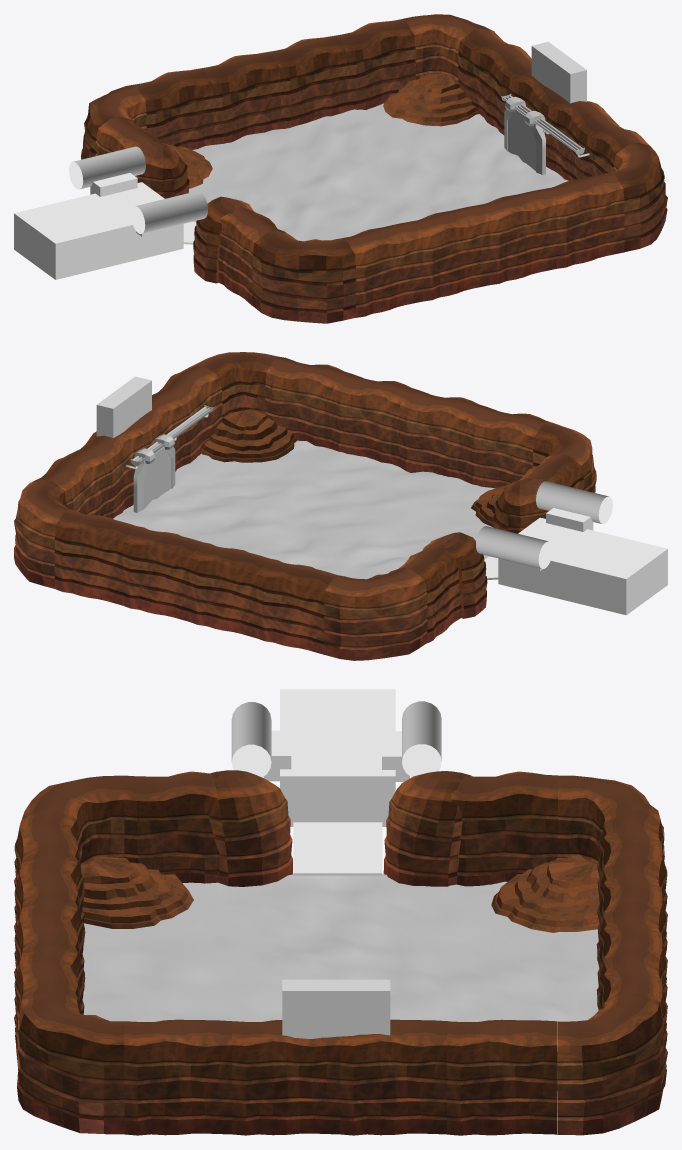
File: level1_InitialV2_20_final.FBX
The picture shows the model from 3 angles, top to bottom: view 1: azimuth 30°, elevation 25°; view 2: azimuth 150°, elevation 25°; view 3: azimuth 270°, elevation 25°; orthographic projection. The views are drawn at different scales.
Visible parts, largest first — view 1: level1_corner002, Plane074, Box093, Pyramid003, Box151, level1_door, level1_doorrail; view 2: level1_corner002, Plane074, Box093, Pyramid003, Box151, level1_door, level1_doorrail; view 3: level1_corner002, Plane074, Box093, Pyramid003, Box151.
Part boxes in pixels (x1,y1,x2,y2): level1_corner002: [81, 14, 667, 323]; Plane074: [188, 103, 568, 241]; Box093: [14, 146, 207, 279]; Pyramid003: [161, 73, 479, 188]; Box151: [531, 41, 586, 103]; level1_door: [504, 96, 545, 175]; level1_doorrail: [501, 94, 589, 157]; level1_corner002: [14, 352, 596, 660]; Plane074: [113, 440, 495, 579]; Box093: [476, 481, 667, 615]; Pyramid003: [201, 409, 516, 527]; Box151: [96, 376, 151, 438]; level1_door: [133, 434, 175, 512]; level1_doorrail: [125, 405, 214, 469]; level1_corner002: [14, 770, 667, 1135]; Plane074: [82, 874, 599, 1112]; Box093: [231, 689, 441, 875]; Pyramid003: [81, 854, 599, 1090]; Box151: [282, 979, 390, 1038].
Size of the model in its own units: 1275 by 223 by 954.
